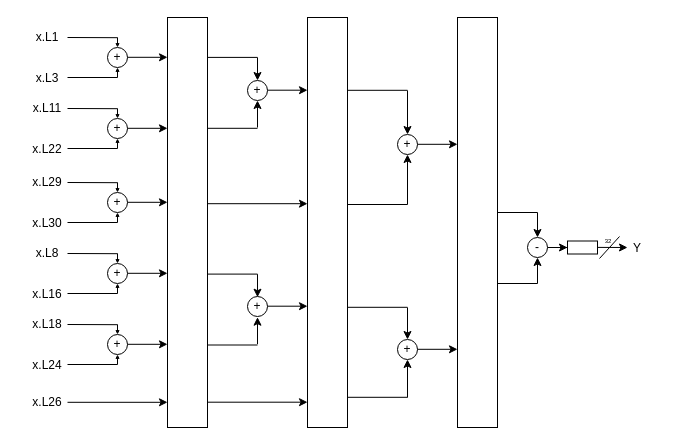
Some shapes in this 684 by 445 pixel diagram are drawn without their labels. The shapes that lost their labels are listed below. From the top down, each one's centre as x and y in pixels, then its label:
At pixel 187 222: "RG1".
At pixel 327 222: "RG2".
At pixel 477 222: "RG3".
At pixel 582 247: "ст".
